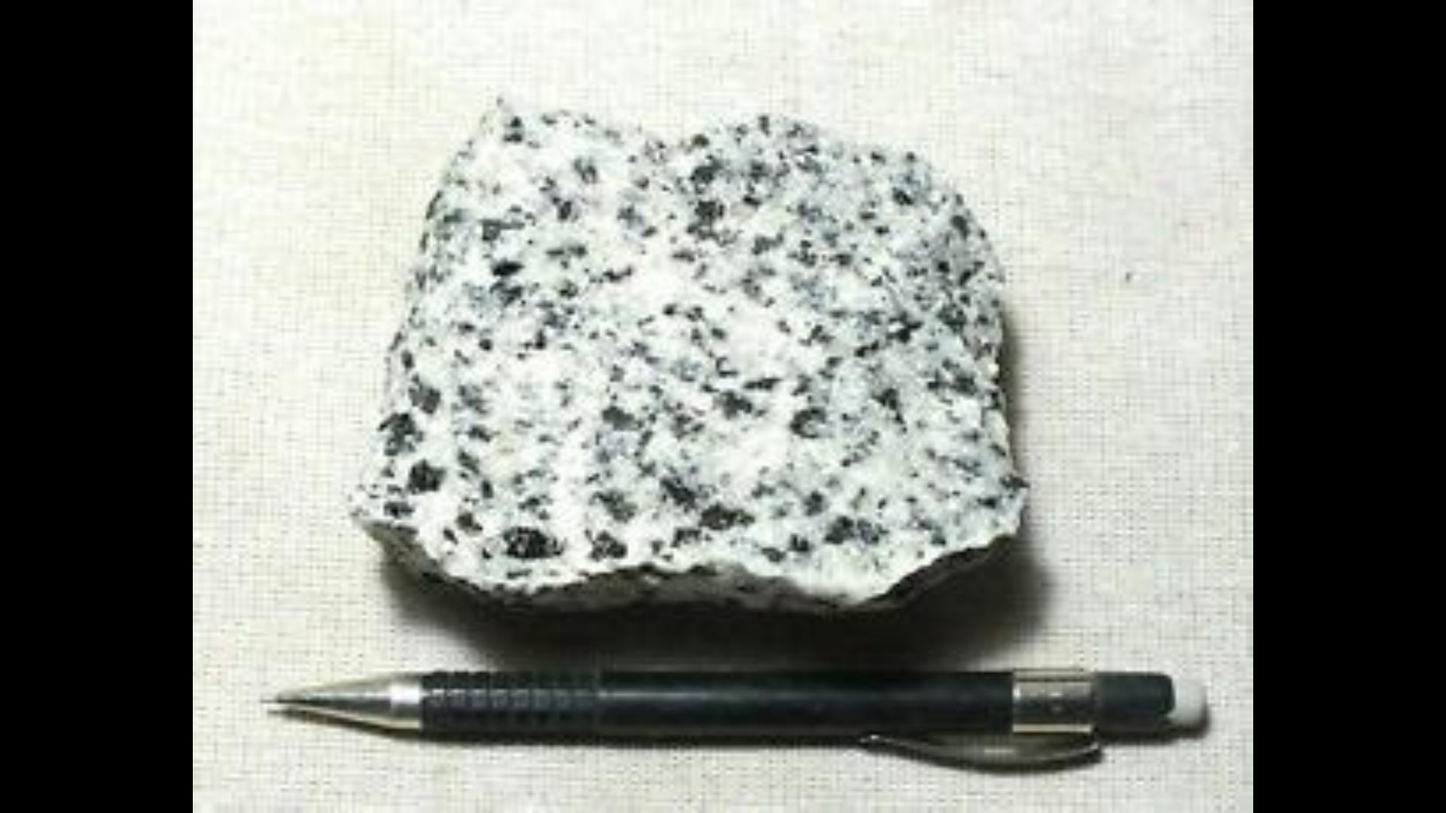rock: (355, 103, 1013, 612)
